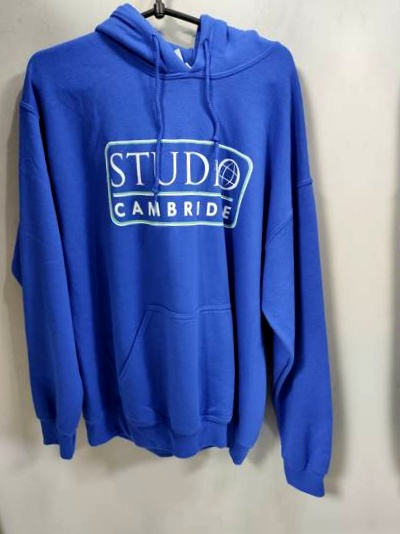Hoodie: (11, 0, 361, 500), (361, 0, 400, 486)
